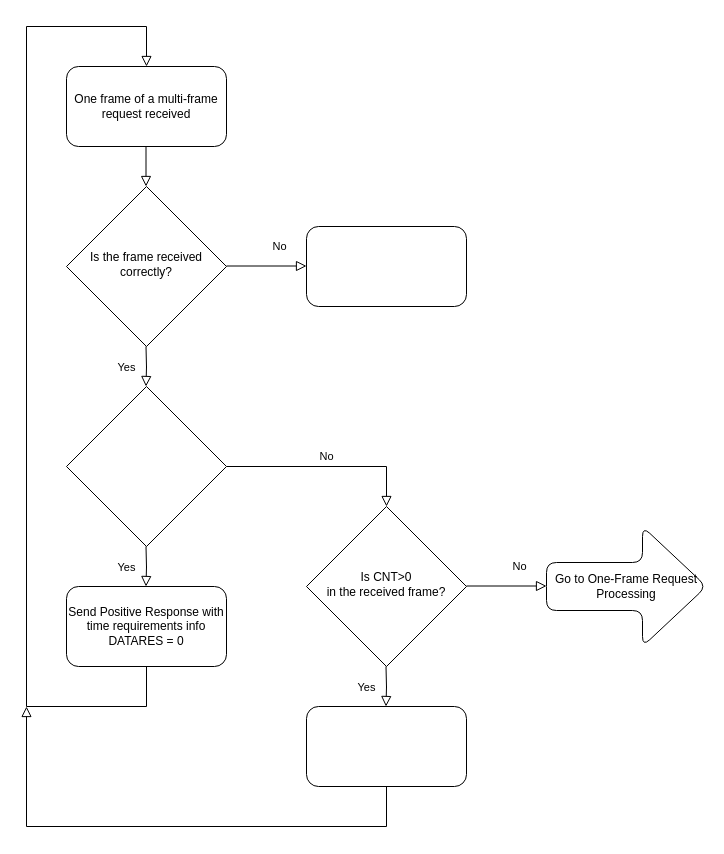
The diagram is 724 pixels wide and 854 high, and some of its shapes have lost their labels. Each missing label, with the centre of its shape:
"Is this the first frame from the multi-frame request?" belongs at [146,466].
"Send Positive Response DATARES = 0" belongs at [386,746].
"Send Proper Negative Response DATARES = 0" belongs at [386,266].
